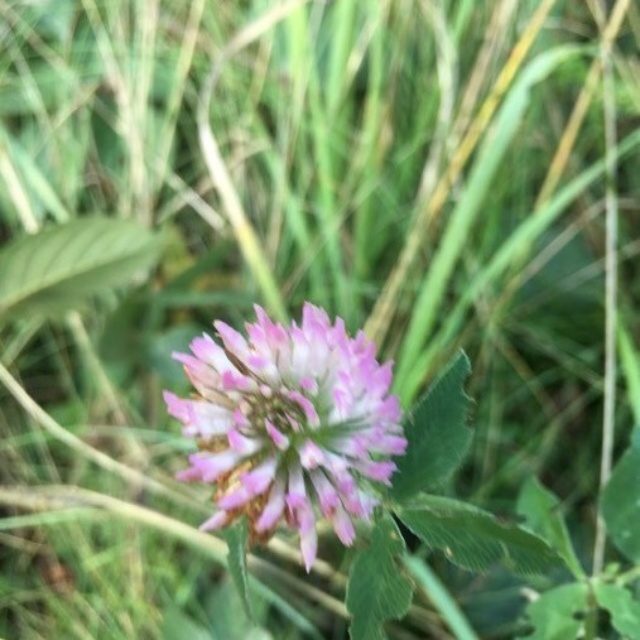obstacle: (38, 215, 621, 631)
